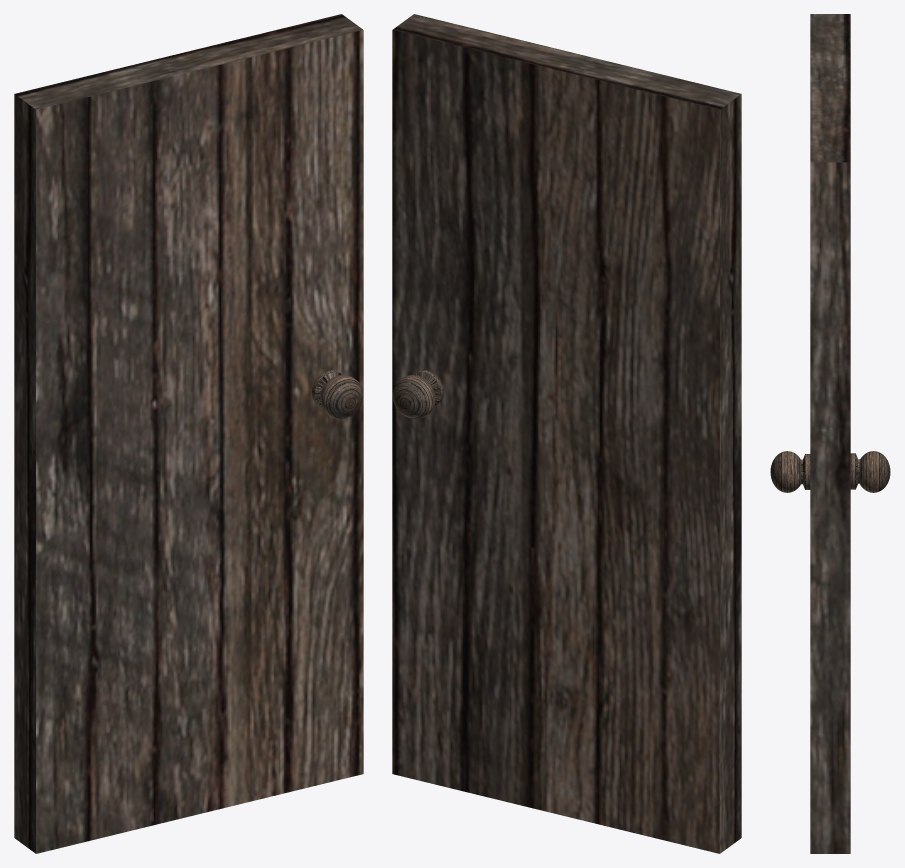
Rendered from Cabin_door.fbx.
The picture shows the model from 3 angles, left to right: view 1: azimuth 30°, elevation 25°; view 2: azimuth 150°, elevation 25°; view 3: azimuth 270°, elevation 25°; orthographic projection. The views are drawn at different scales.
Parts seen in each view (by area): view 1: polySurface4; view 2: polySurface4; view 3: polySurface4.
Boxes of the visible parts, x1=… form: polySurface4: x1=14, y1=14, x2=363, y2=853; polySurface4: x1=392, y1=14, x2=741, y2=853; polySurface4: x1=770, y1=14, x2=890, y2=853.
Size of the model in its own units: 12.07 by 26.22 by 4.12.
